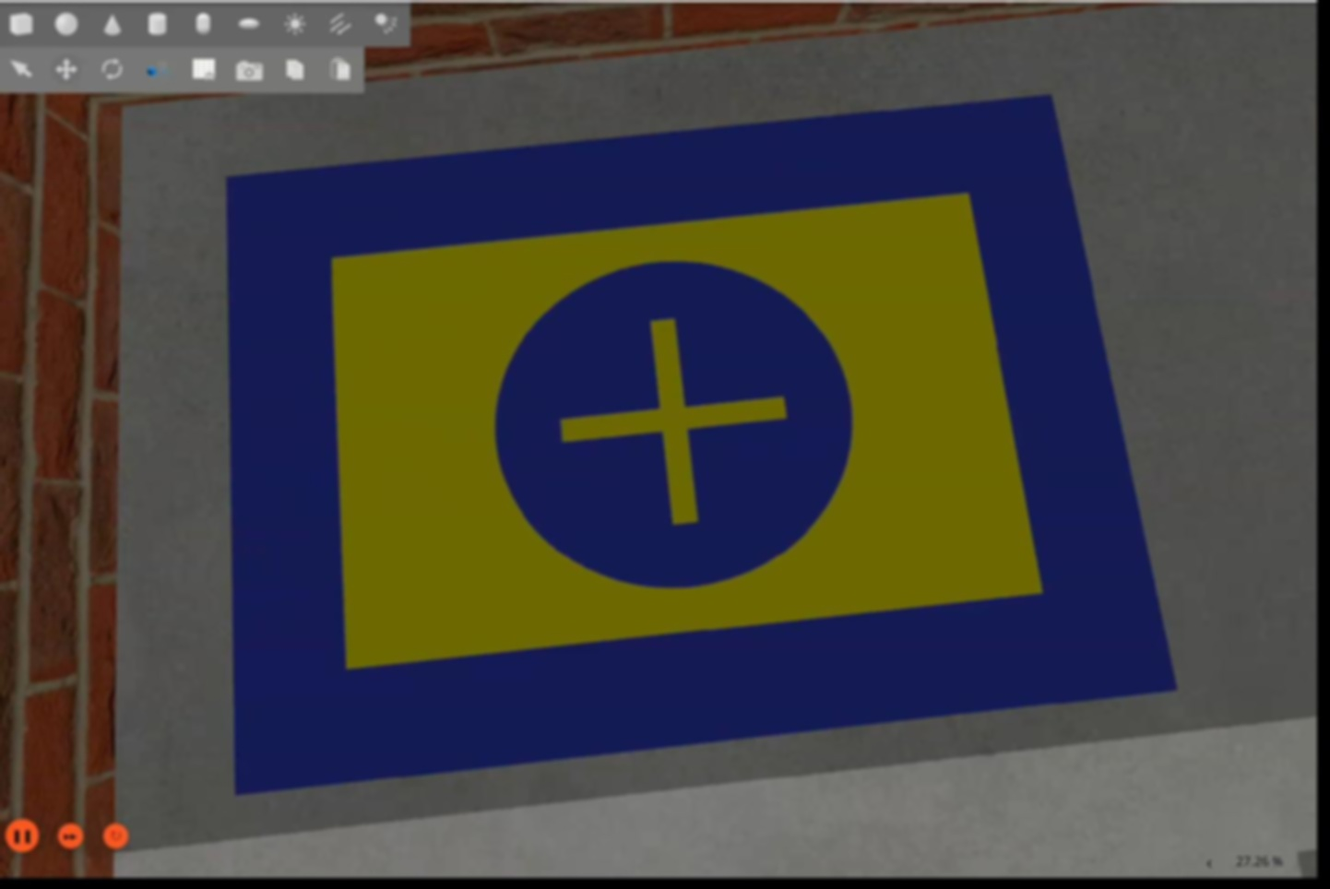large_base: (225, 92, 1176, 798)
